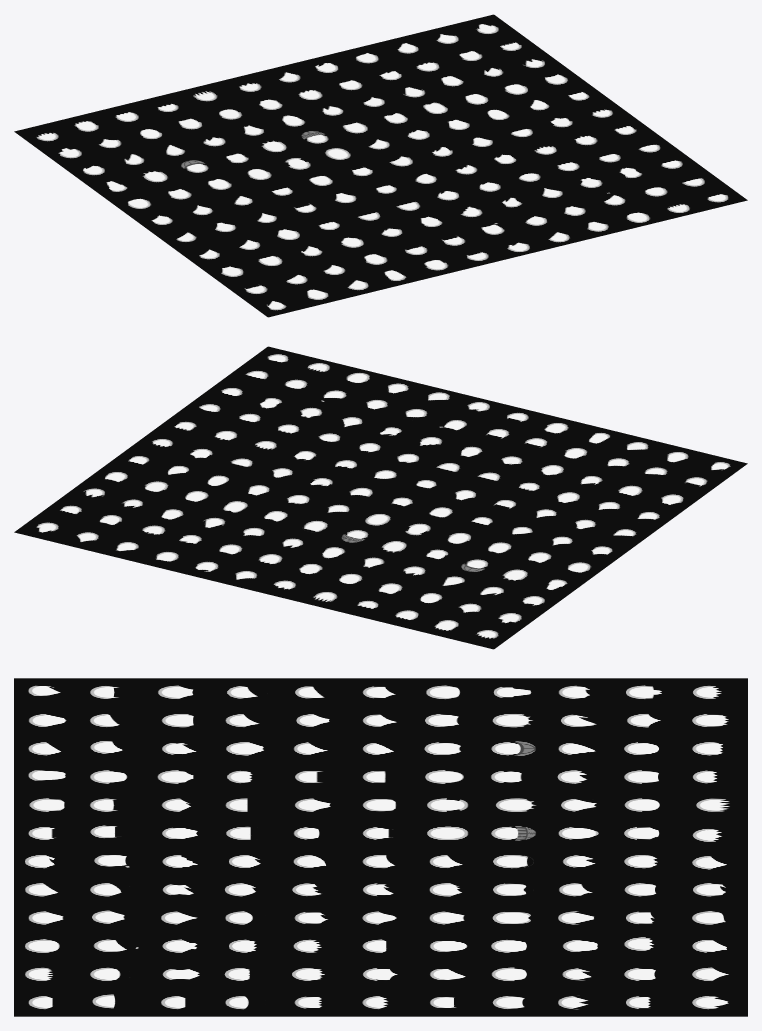
Rendered from hair_sprite.gltf.
3 views of the same model, one above another, from view 1: azimuth 30°, elevation 25°; view 2: azimuth 150°, elevation 25°; view 3: azimuth 270°, elevation 25° (orthographic). The views are drawn at different scales.
Visible parts, largest first — view 1: hair_sprite.001; view 2: hair_sprite.001; view 3: hair_sprite.001.
Boxes of the visible parts, <box> form: hair_sprite.001: <box>14,14,747,317</box>; hair_sprite.001: <box>14,346,747,649</box>; hair_sprite.001: <box>14,678,747,1016</box>.
Bounding box in the file's own units: 0.1744 × 0 × 0.1598.
1 material, 1 textured.
